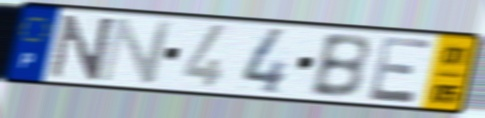4: (239, 25, 290, 97), (179, 22, 229, 93)
B: (306, 33, 373, 101)
E: (366, 34, 436, 106)
N: (96, 16, 177, 85), (47, 12, 118, 82)
